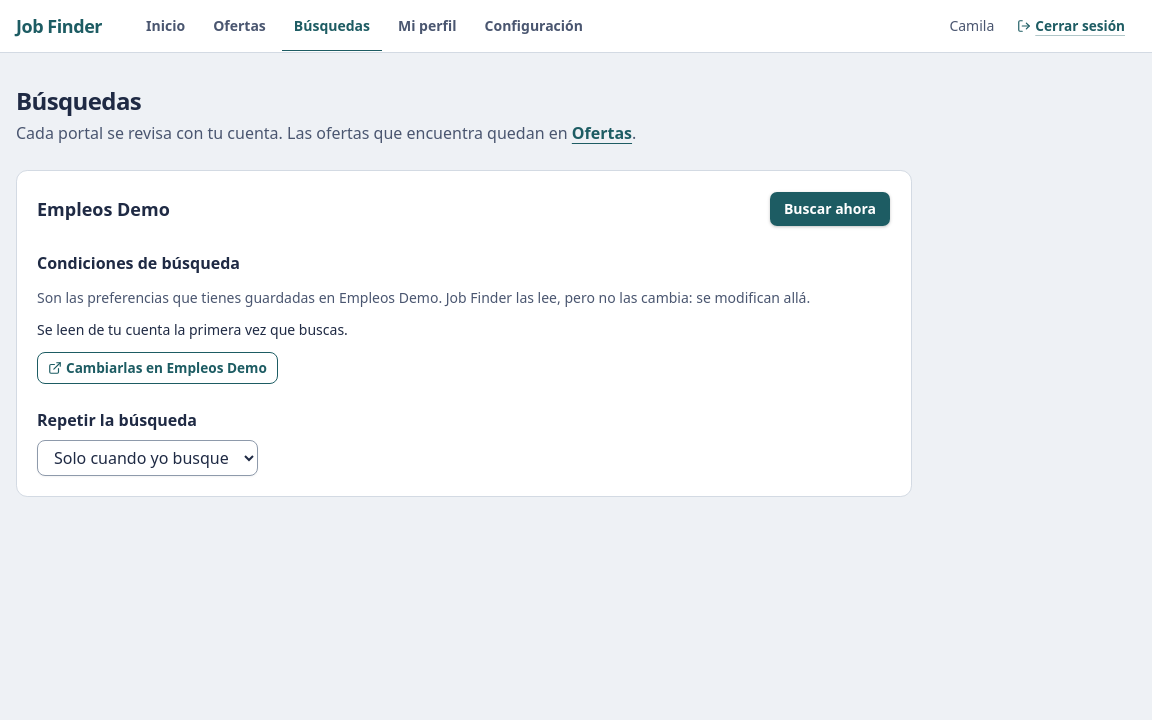
Test case: Búsquedas › "Buscar ahora" lanza la búsqueda y muestra su avance
The image size is (1152, 720).
Click the button "Buscar ahora".
click(830, 209)  # box left=769, top=191, right=891, bottom=227
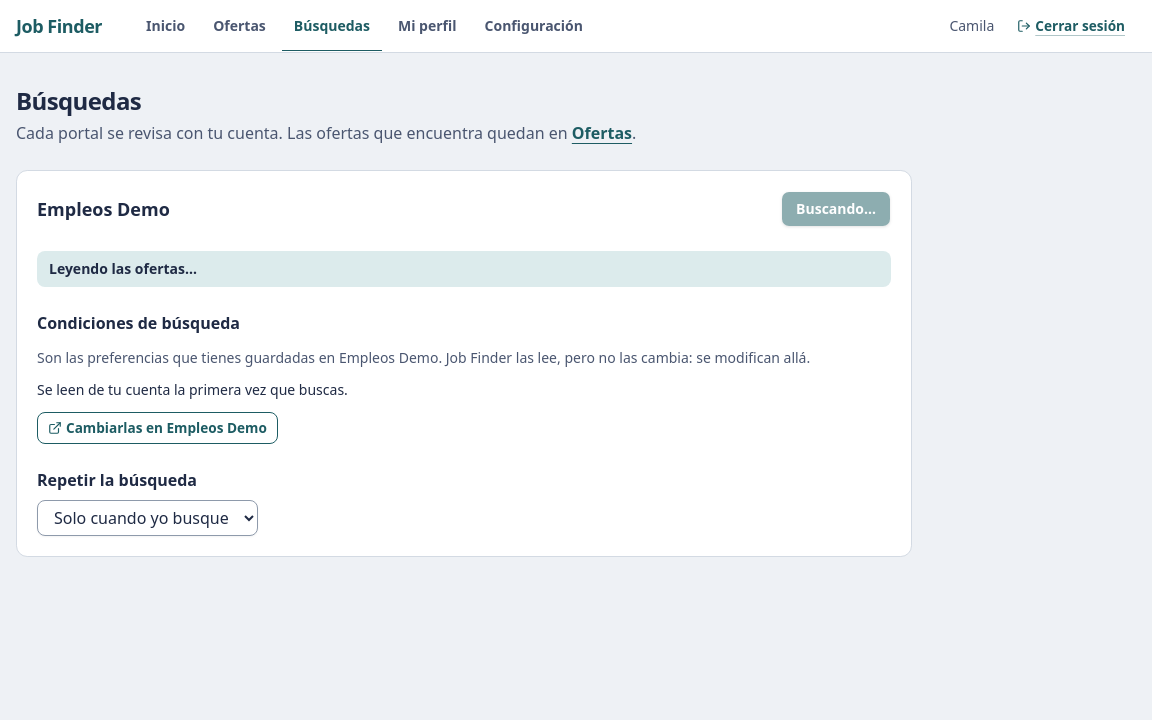
Expected: the message reads "Leyendo las ofertas…", left=37, top=251, right=891, bottom=287
Expected: the button "Buscando…" is disabled, left=781, top=191, right=891, bottom=227
